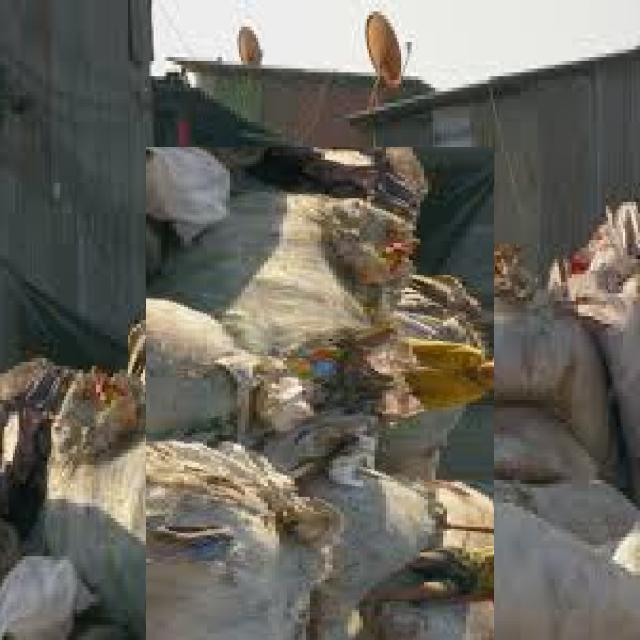garbage: (73, 219, 567, 640)
